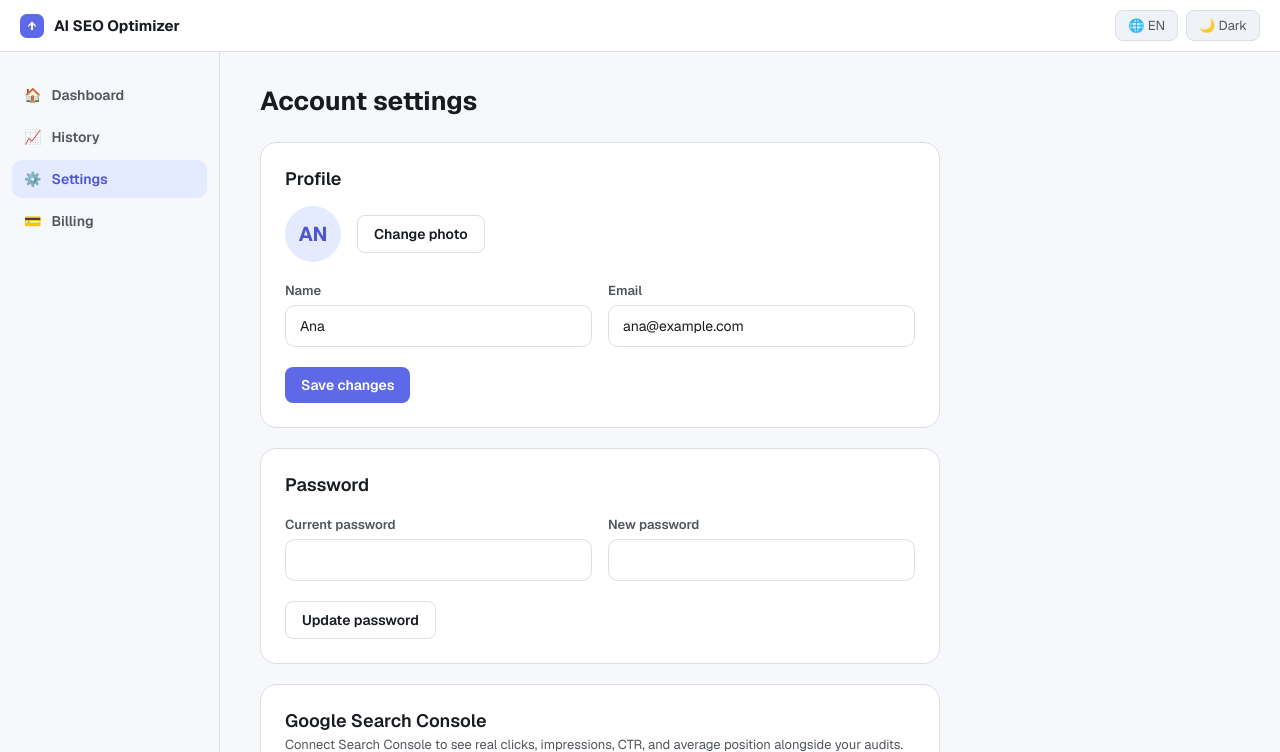
it: Settings: password › submits current/new password and shows success
Expected: the field showing "Ana" is shown, [285,305,592,347]
In the password field labelled "Current password": [438, 560] box [285,539,592,581], type "old-pass"
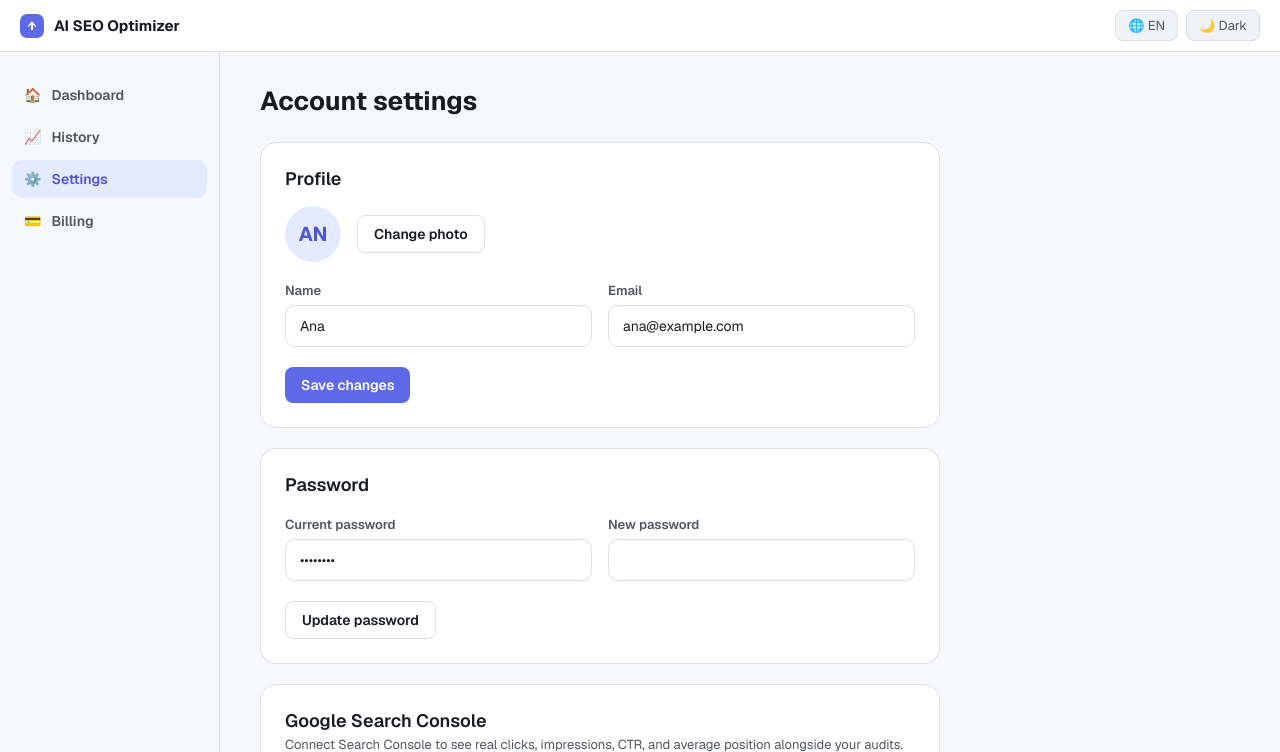
In the password field labelled "New password": [762, 560] box [608,539,915,581], type "new-password-123"
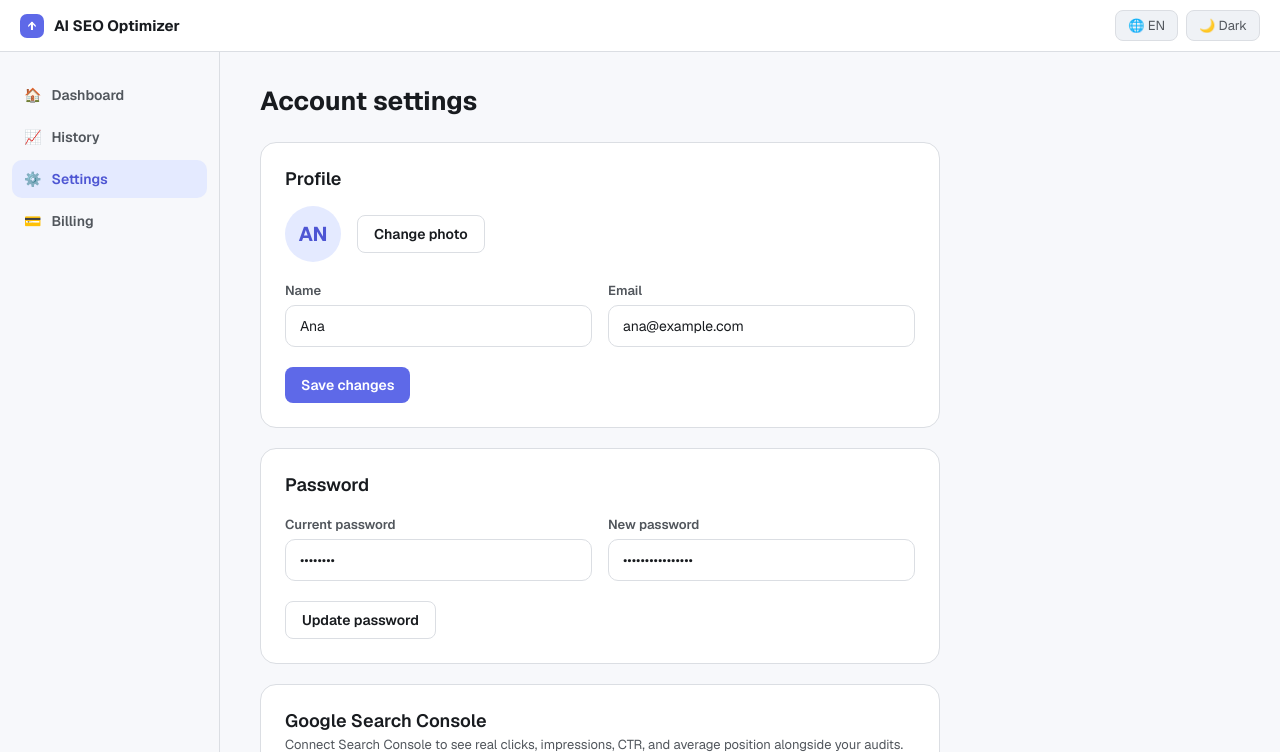
Click the button "Update password": [360, 620] box [285,601,436,639]
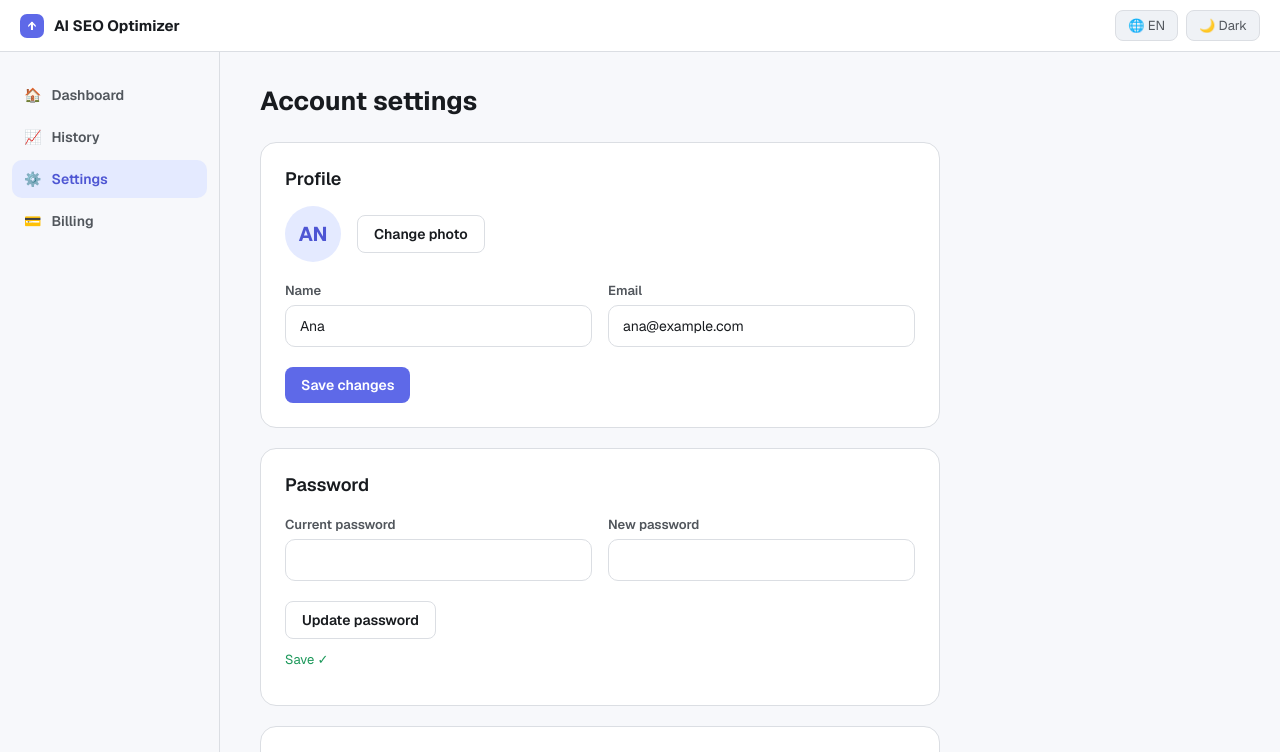
Expected: the text "Save ✓" is shown, [285,651,328,668]
